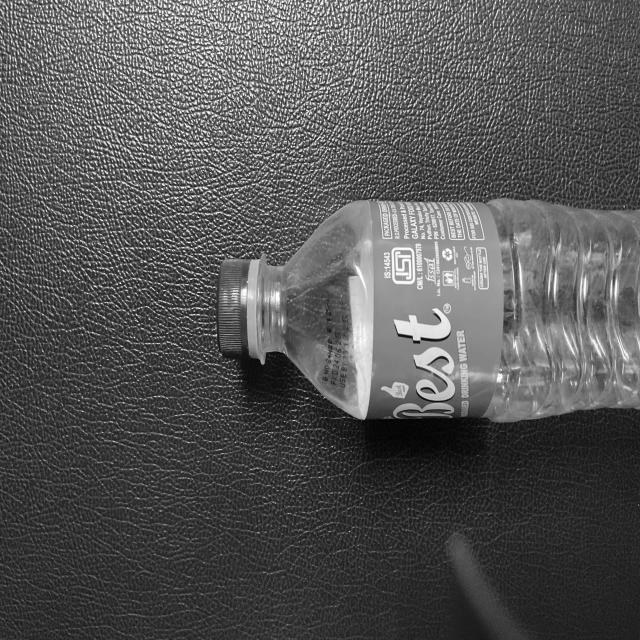Good-cap-Df0S: (215, 252, 266, 369)
